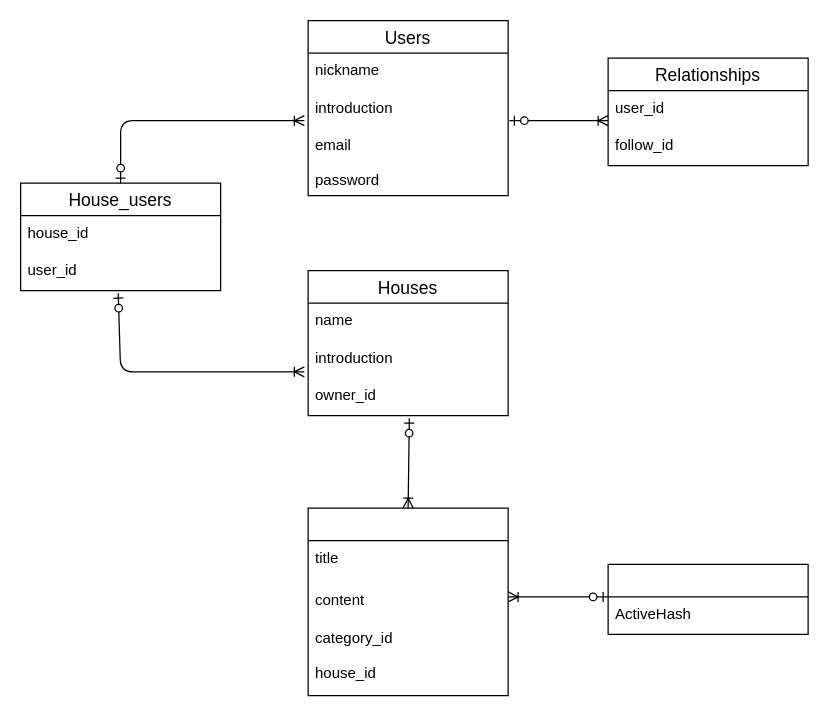
The diagram is 829 pixels wide and 716 high, and some of its shapes have lost their labels. Each missing label, with the box of its shape:
Category: (607, 563, 808, 634)
Roles: (307, 507, 508, 696)
